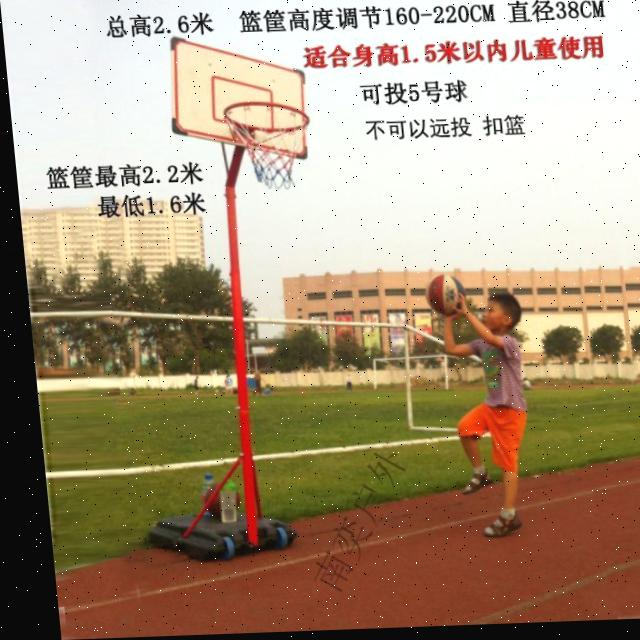basketball: (426, 274, 468, 316)
hoop: (225, 98, 321, 192)
